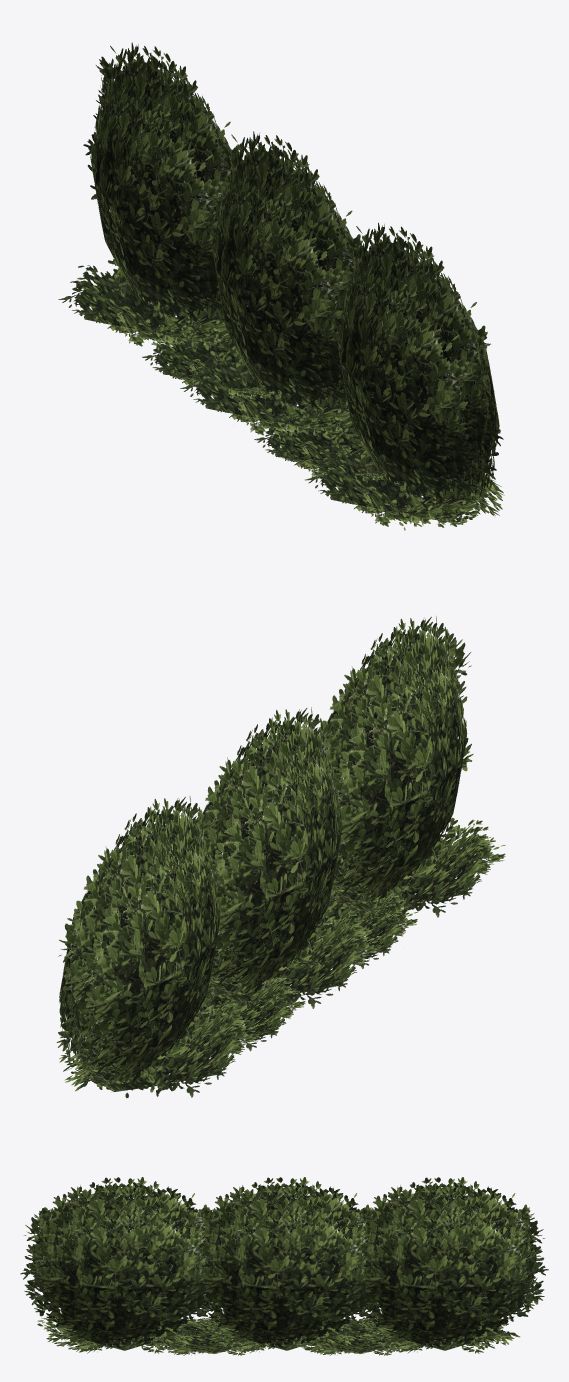
The model's file is Bush04b.fbx.
3 views of the same model, one above another, from view 1: azimuth 30°, elevation 25°; view 2: azimuth 150°, elevation 25°; view 3: azimuth 270°, elevation 25° (orthographic). The views are drawn at different scales.
Parts seen in each view (by area): view 1: Bush04b; view 2: Bush04b; view 3: Bush04b.
Boxes of the visible parts, bbox=[...] form: Bush04b: bbox=[58, 42, 504, 530]; Bush04b: bbox=[56, 616, 505, 1098]; Bush04b: bbox=[20, 1177, 548, 1355].
Bounding box in the file's own units: 0.4514 × 0.7727 × 2.06.
